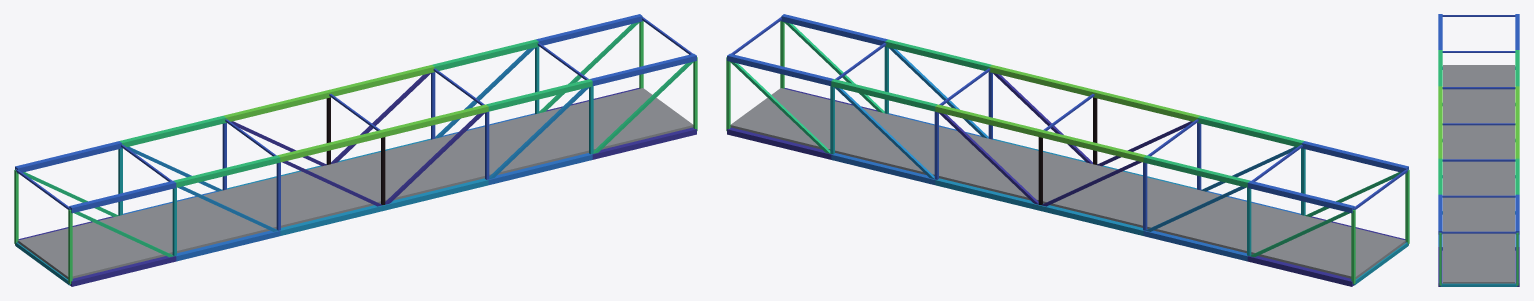
File: 20_2.25_6_HEA160.glb
3 views of the same model, side by side, from view 1: azimuth 30°, elevation 25°; view 2: azimuth 150°, elevation 25°; view 3: azimuth 270°, elevation 25° (orthographic). The views are drawn at different scales.
Bounding box in the file's own units: 20.09 × 2.41 × 3.16.
